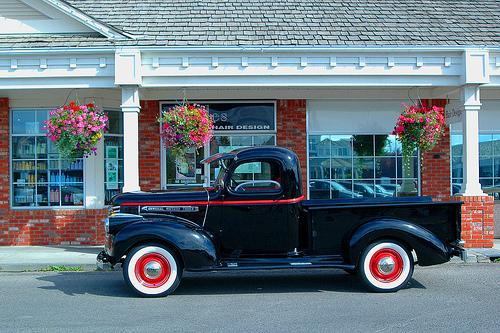truck: (96, 145, 468, 299)
